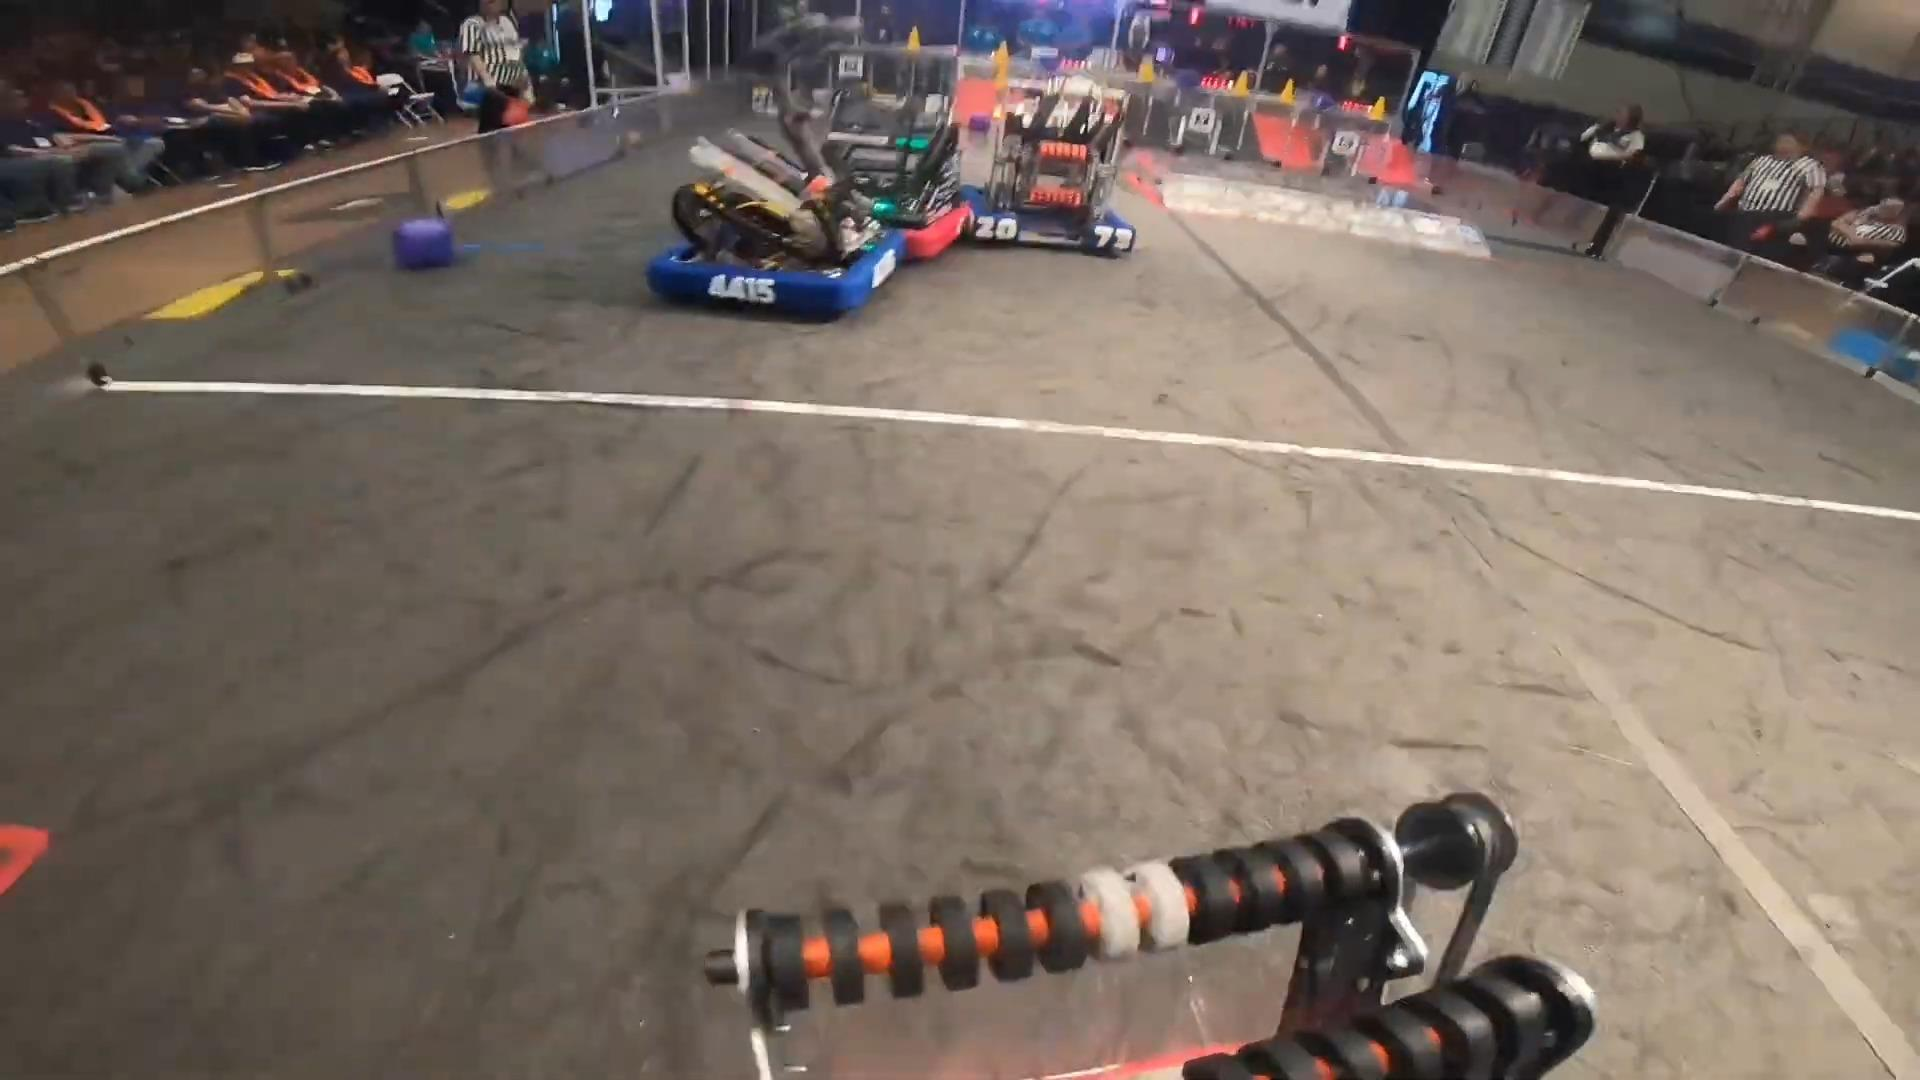robot: (649, 132, 906, 316), (963, 80, 1135, 257), (819, 86, 972, 258)
